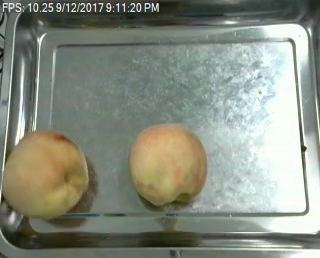Peach: (2, 128, 89, 220), (128, 122, 208, 206)
